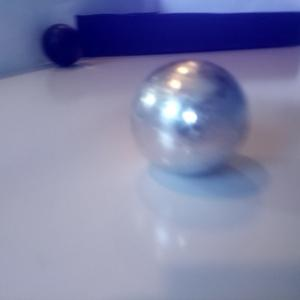zone: (74, 12, 300, 58)
